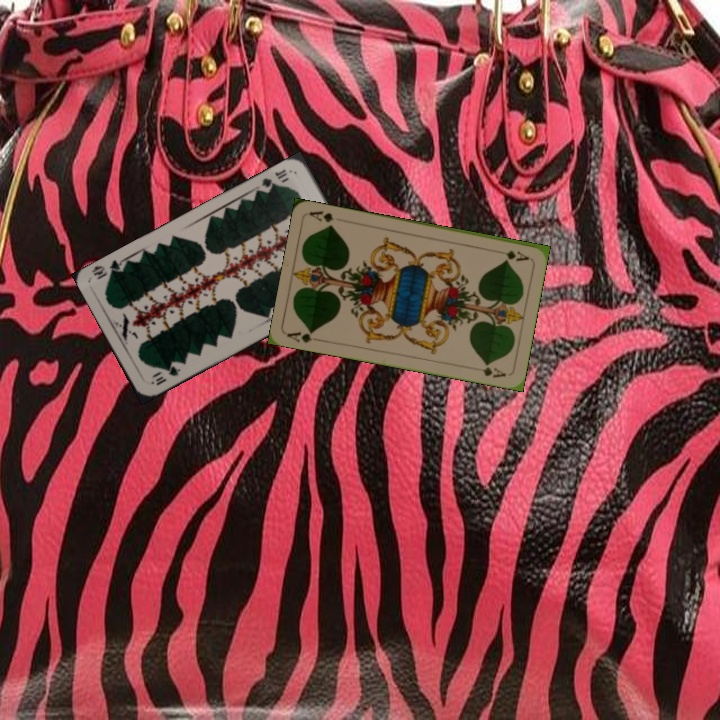G10: (147, 361, 183, 388), (257, 165, 290, 193)
GA: (284, 327, 324, 346), (491, 246, 532, 263)
